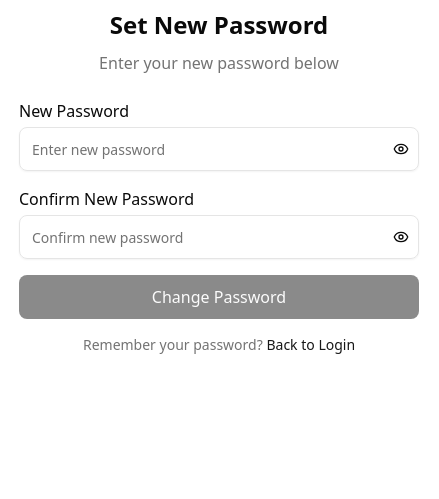
Test case: ChangePasswordForm › shows error when no token provided
Step 1. Type "abc123!@" into the password field labelled "New Password" → (219, 149), box [19,127,419,171]
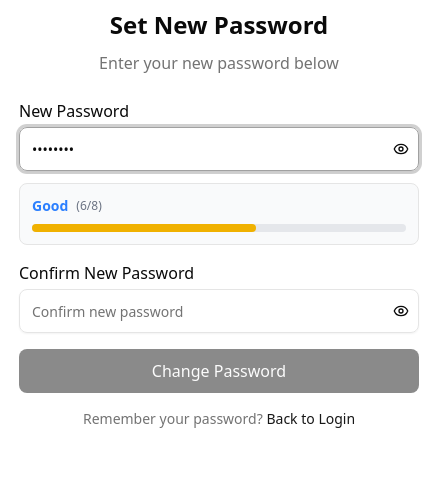
Step 2. Type "abc123!@" into the password field labelled "Confirm New Password" → (219, 311), box [19,289,419,333]
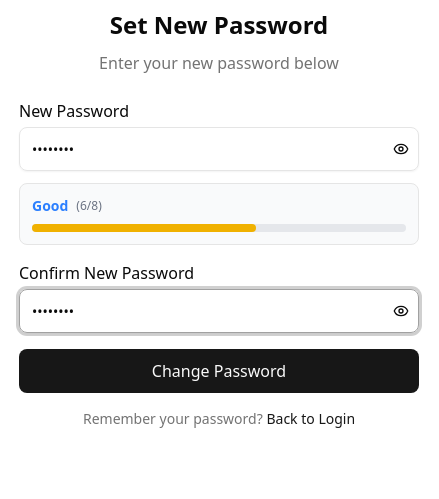
Step 3. Click the button "Change Password" → (219, 371), box [19,349,419,393]
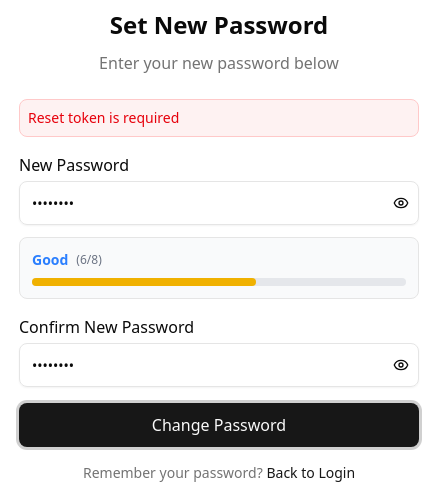
Expected: the text "Reset token is required" is shown, [19,99,419,137]
